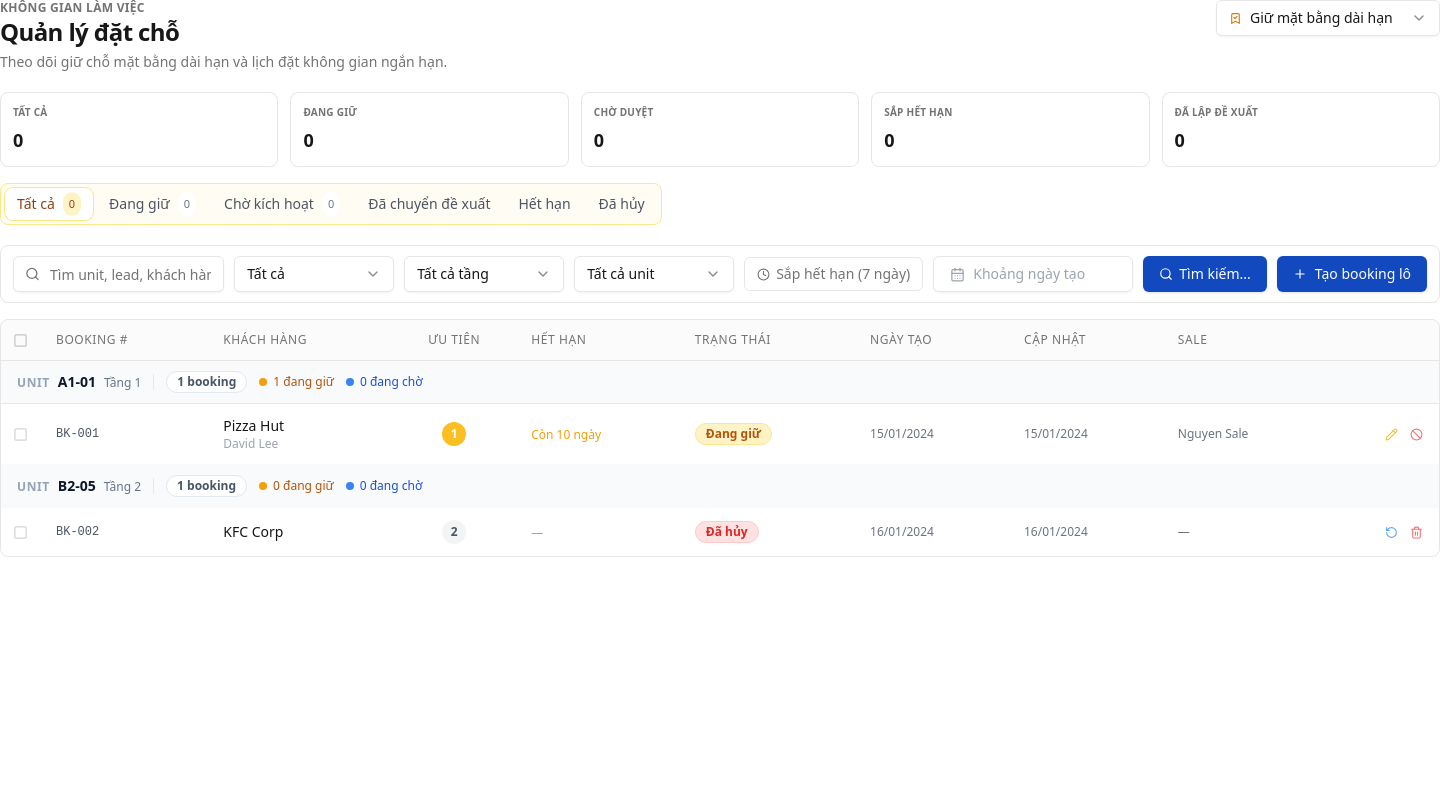
Test case: BookingsPage — cancel booking › clicking cancel button opens confirmation dialog
Click the button titled "Hủy booking": (1416, 434) top-left (1406, 424), bottom-right (1427, 444)
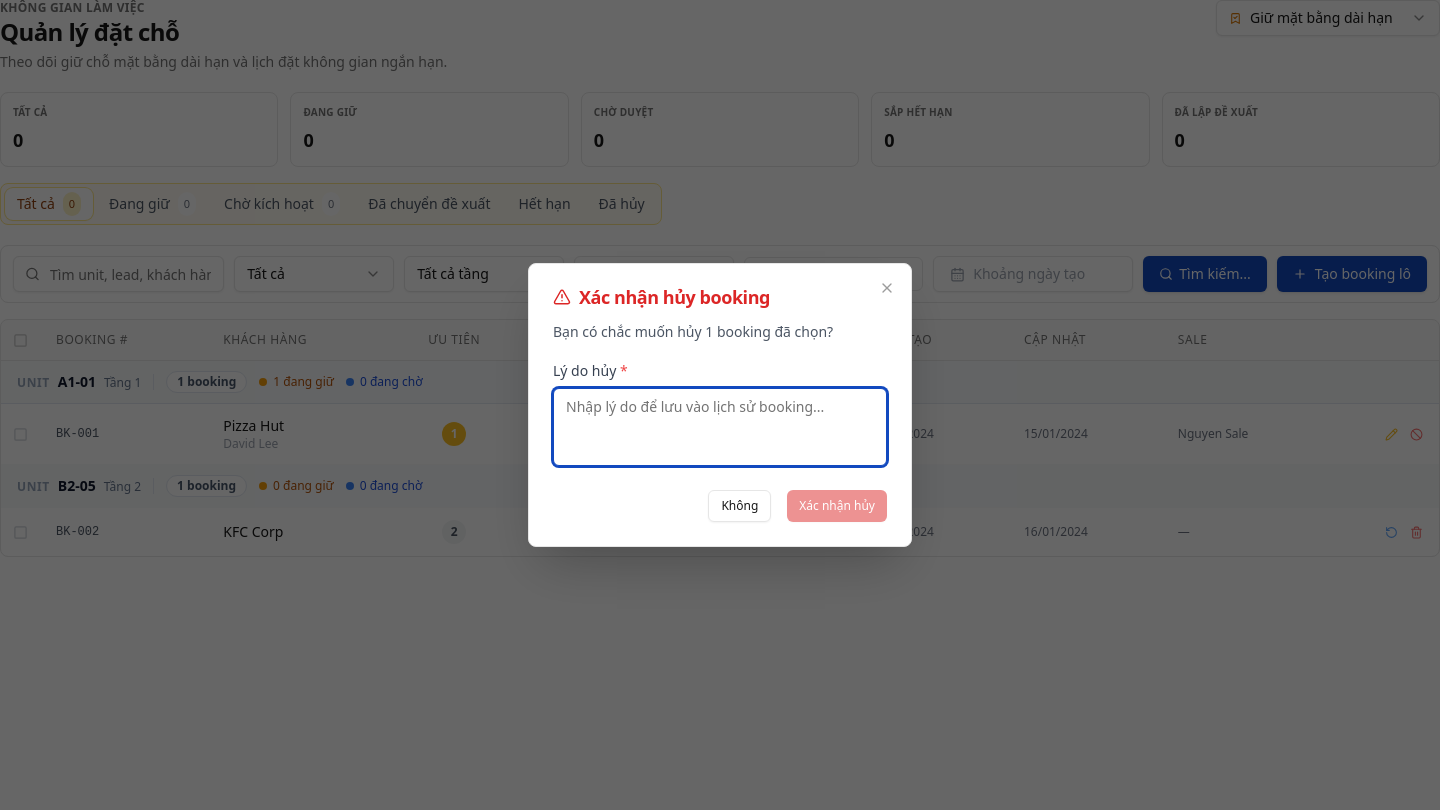
Now the heading "Xác nhận hủy booking" is shown, box top-left (553, 285), bottom-right (770, 309)
Now the text "Bạn có chắc muốn hủy 1 booking đã chọn?" is shown, box top-left (553, 322), bottom-right (833, 341)
